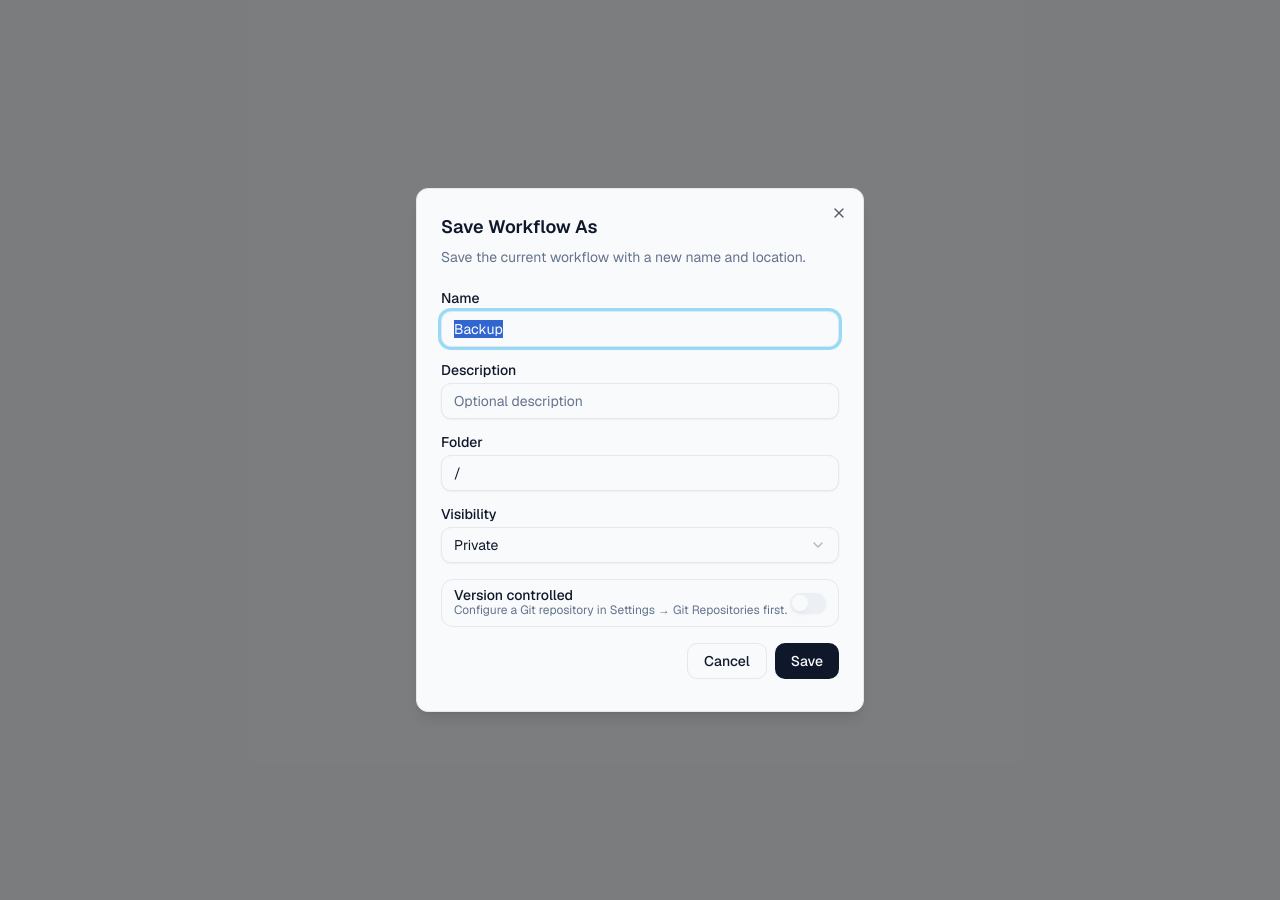
Test: WorkflowSaveAsDialog › lets the user choose a different name
Step 1. Click the button "Save" → click(807, 661), box [775,643,839,679]
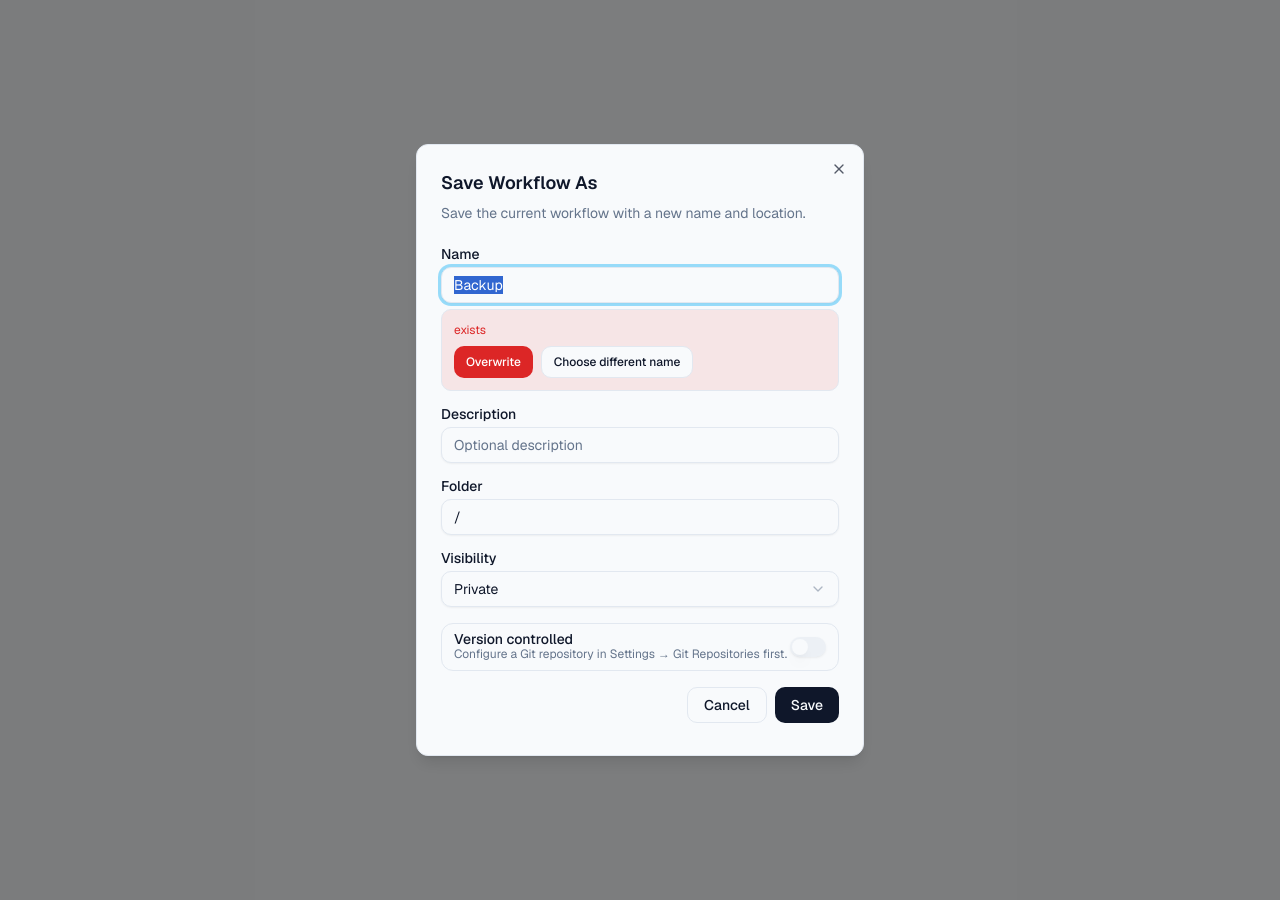
Step 2. Click the button "Choose different name" → click(617, 362), box [541,346,694,378]
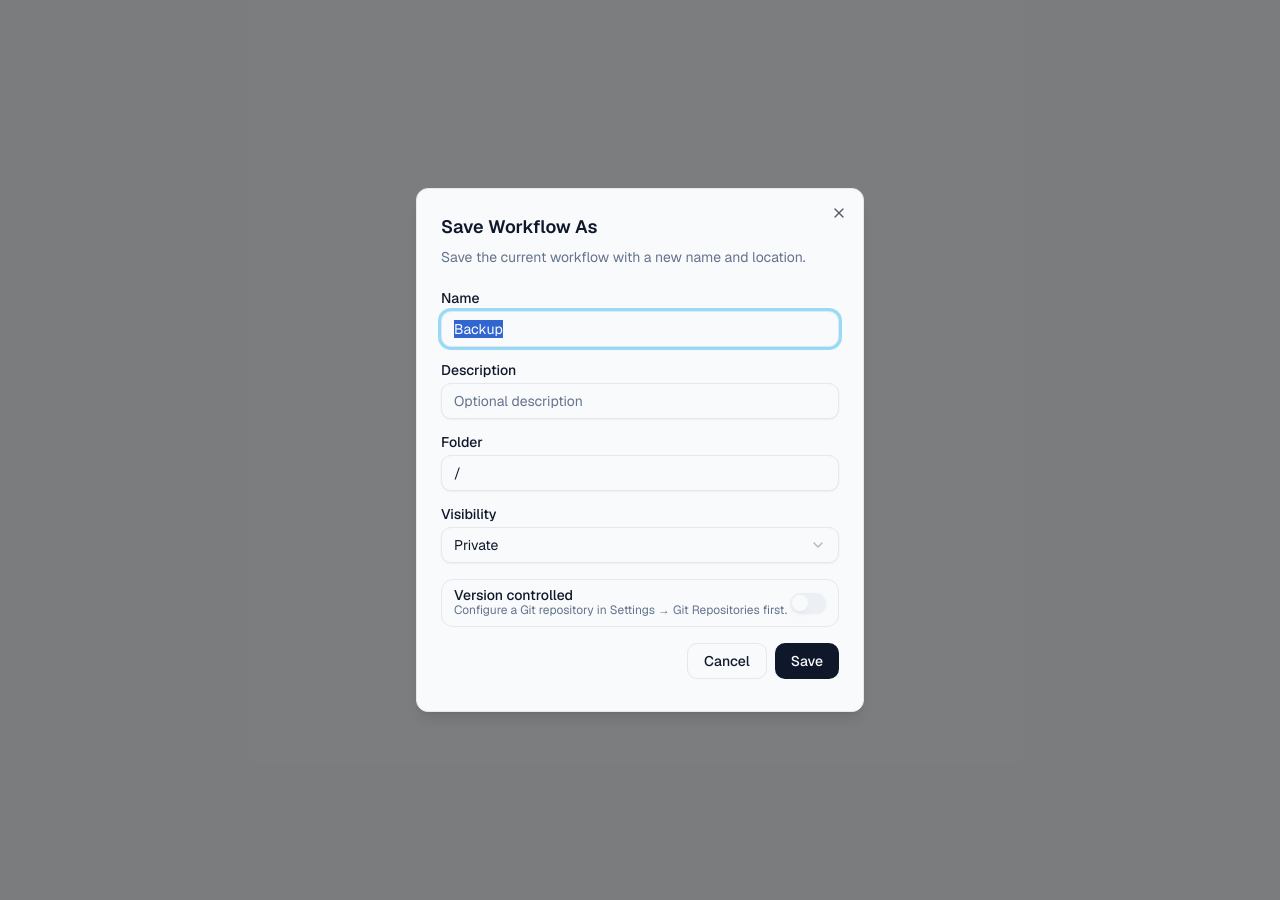
Now the text "exists" is gone
